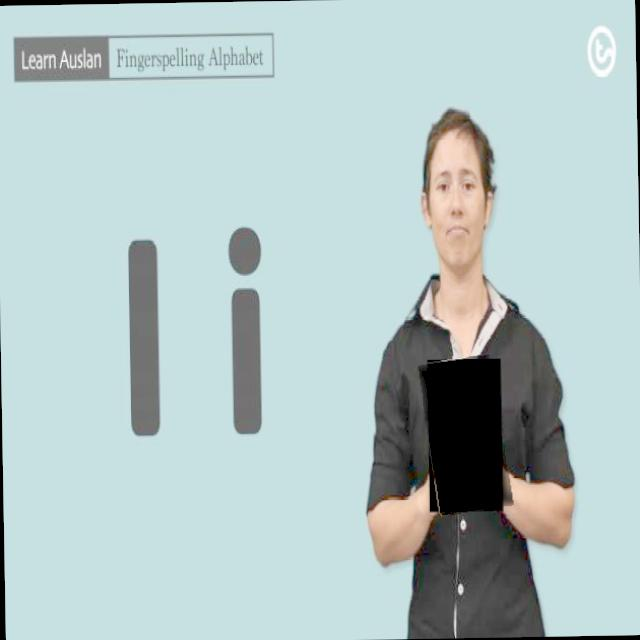I: (423, 357, 510, 516)
